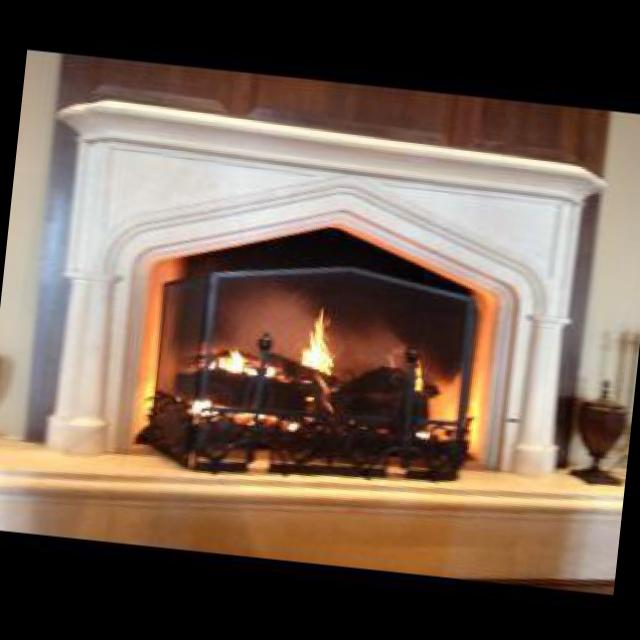fire: (196, 285, 346, 434)
